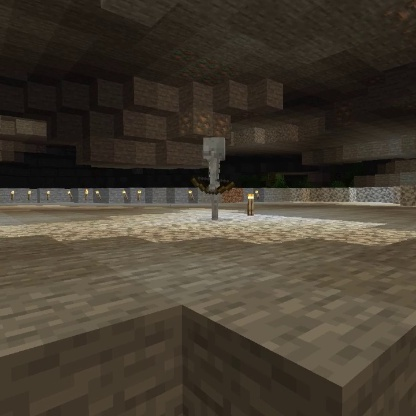skeleton: (188, 132, 238, 222)
